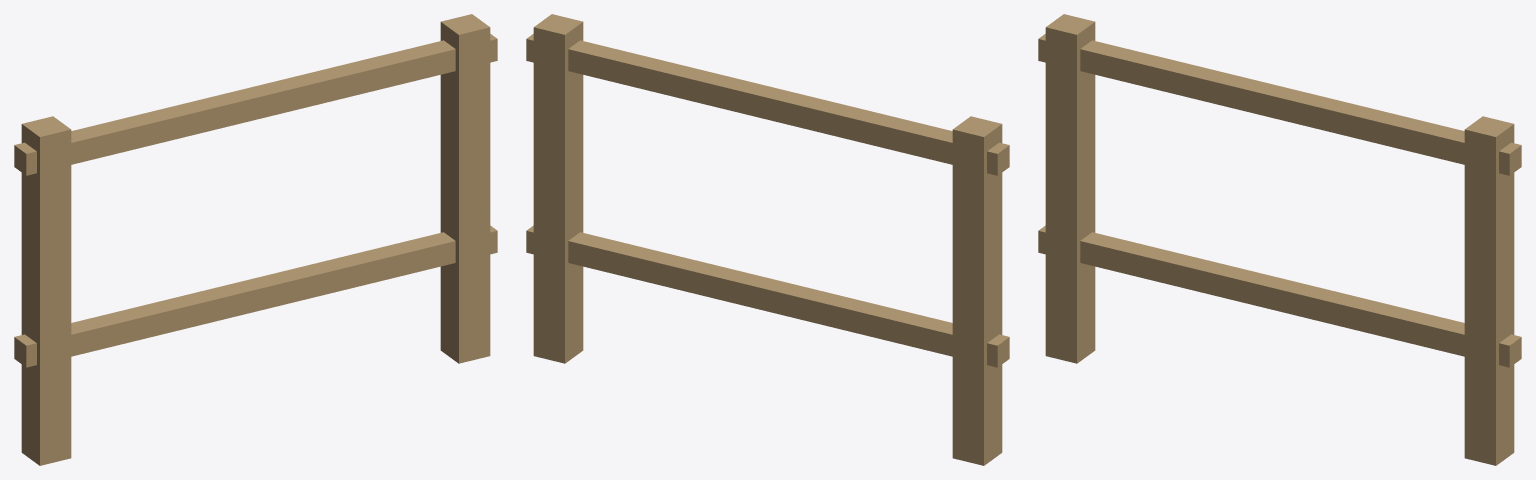
Rendered from prop_fence.glb.
3 views of the same model, side by side, from view 1: azimuth 30°, elevation 25°; view 2: azimuth 150°, elevation 25°; view 3: azimuth 330°, elevation 25° (orthographic).
Visible parts, largest first — view 1: Fence_Post_4, Fence_Post_-4, Fence_Rail2, Fence_Rail; view 2: Fence_Post_4, Fence_Post_-4, Fence_Rail2, Fence_Rail; view 3: Fence_Post_-4, Fence_Post_4, Fence_Rail2, Fence_Rail.
Part boxes in pixels (box(x1,y1,x2,y2)): Fence_Post_4: box(440, 14, 490, 363); Fence_Post_-4: box(21, 116, 71, 465); Fence_Rail2: box(14, 225, 497, 367); Fence_Rail: box(14, 34, 497, 175); Fence_Post_4: box(533, 14, 583, 363); Fence_Post_-4: box(952, 116, 1002, 465); Fence_Rail2: box(526, 225, 1009, 367); Fence_Rail: box(526, 34, 1009, 175); Fence_Post_-4: box(1045, 14, 1095, 363); Fence_Post_4: box(1464, 116, 1514, 465); Fence_Rail2: box(1038, 225, 1521, 367); Fence_Rail: box(1038, 34, 1521, 175).
Bounding box in the file's own units: 0.9 × 0.6 × 0.06.
